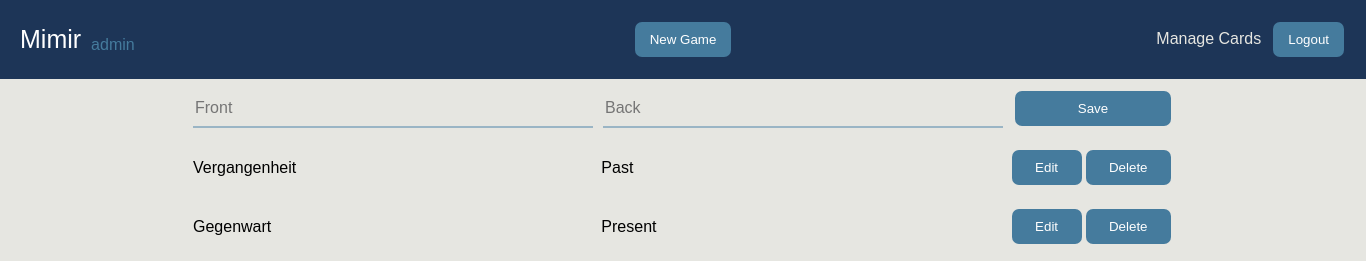
Scenario: Manage card › Delete card from UI
Click the button named "Anmelden".
click(1309, 40)  # box 1273,22 -> 1344,57
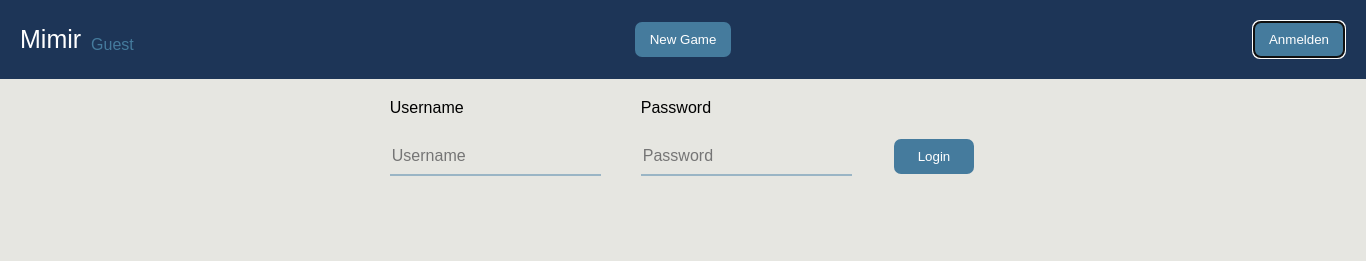
Type "admin" into the field with placeholder "Username".
click(495, 156); type("admin")  # box 390,137 -> 601,176
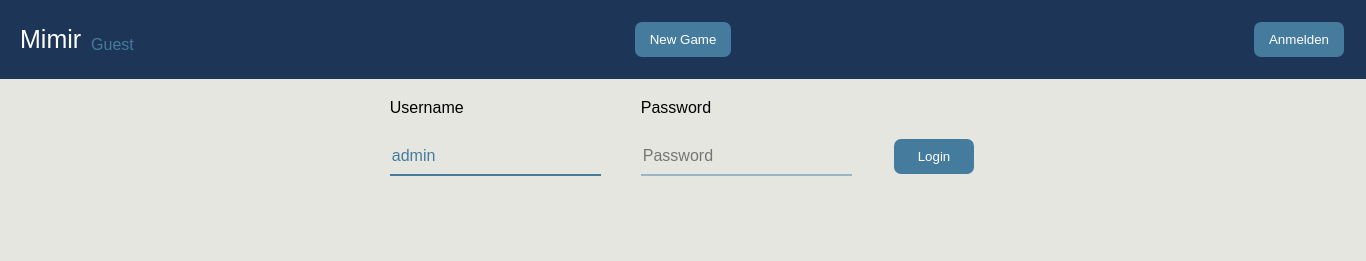
Type "admin" into the password field with placeholder "Password".
click(746, 156); type("admin")  # box 641,137 -> 852,176
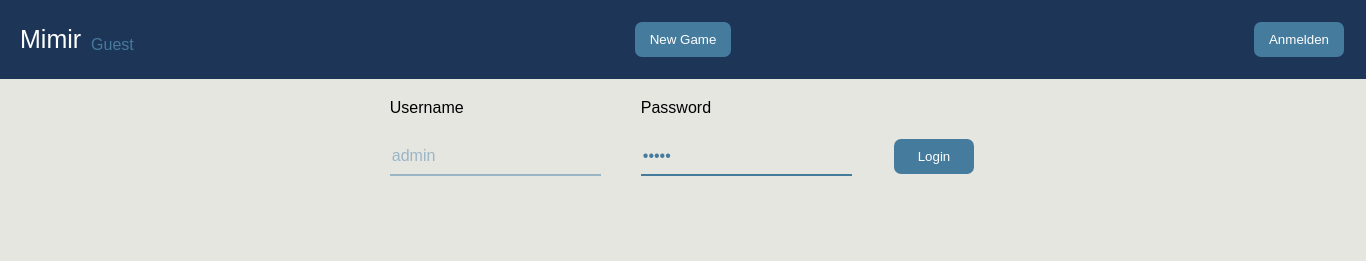
Click the button "Login".
click(934, 156)  # box 894,139 -> 974,174
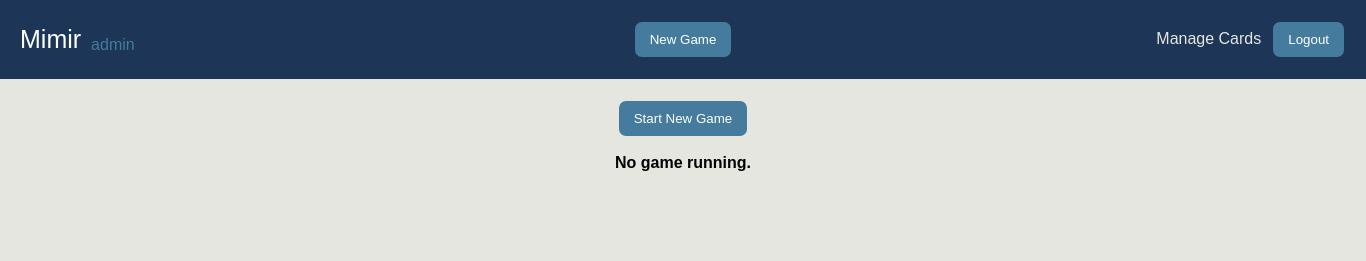
Click the link with test id "manage-cards".
click(1209, 38)  # box 1156,30 -> 1261,47
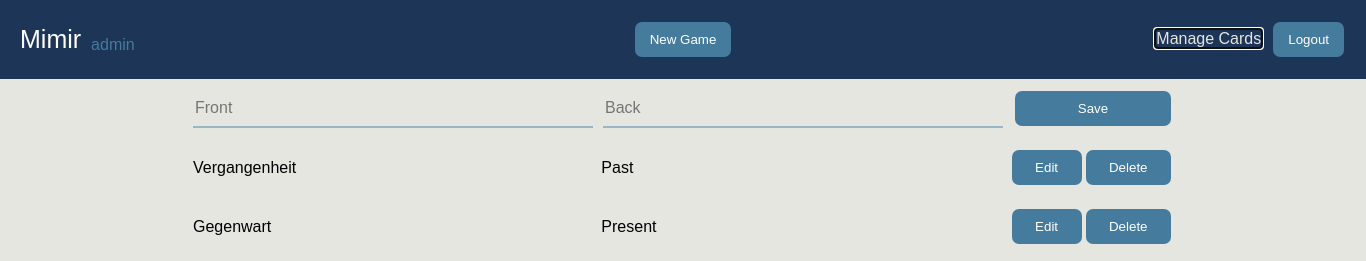
Click the button "Delete" in the row of "Past".
click(1128, 168)  # box 1086,150 -> 1171,185
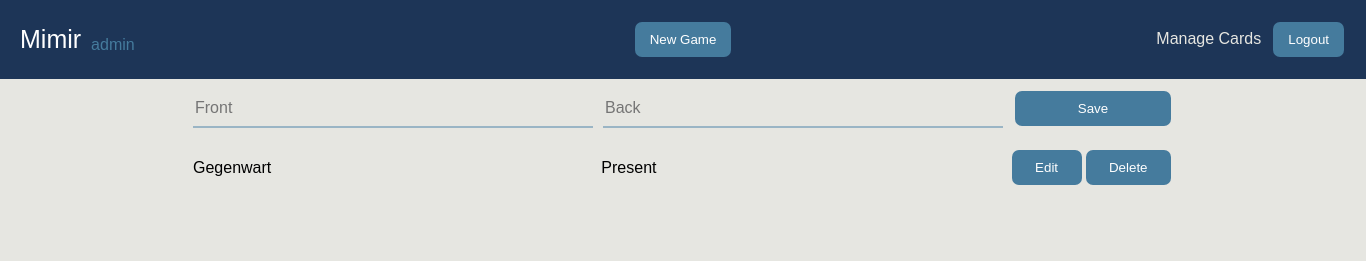
Expected: the text "Vergangenheit" is gone
